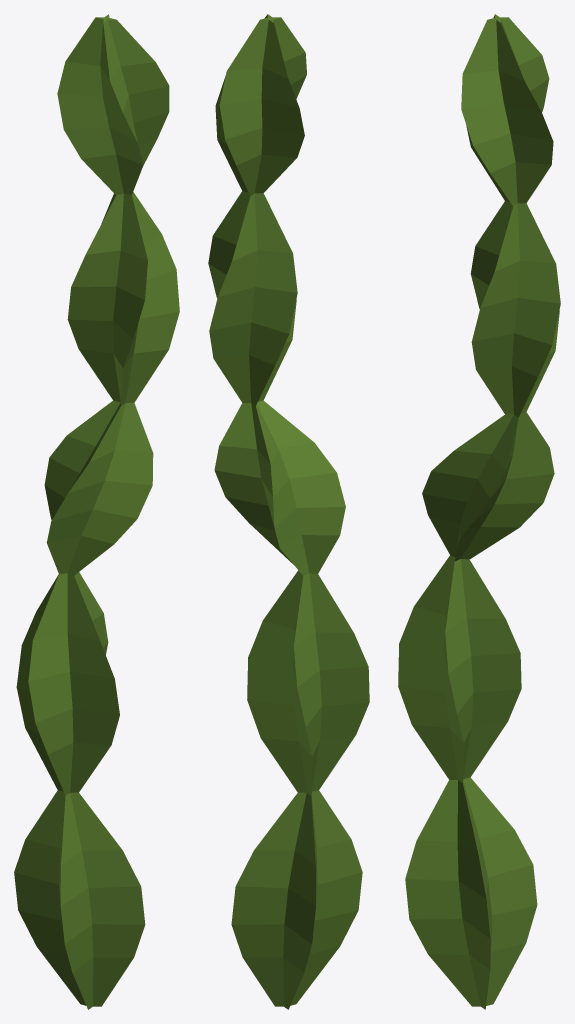
Rendered from Cactus_15.fbx.
3 renders of one model, left to right at view 1: azimuth 30°, elevation 25°; view 2: azimuth 150°, elevation 25°; view 3: azimuth 330°, elevation 25°, orthographic.
Visible parts, largest first — view 1: Cactus_15; view 2: Cactus_15; view 3: Cactus_15.
Part boxes in pixels (x1,y1,x2,y2): Cactus_15: (14,14,179,1009); Cactus_15: (208,14,369,1009); Cactus_15: (398,14,560,1009).
Bounding box in the file's own units: 24.82 × 16.12 × 151.
